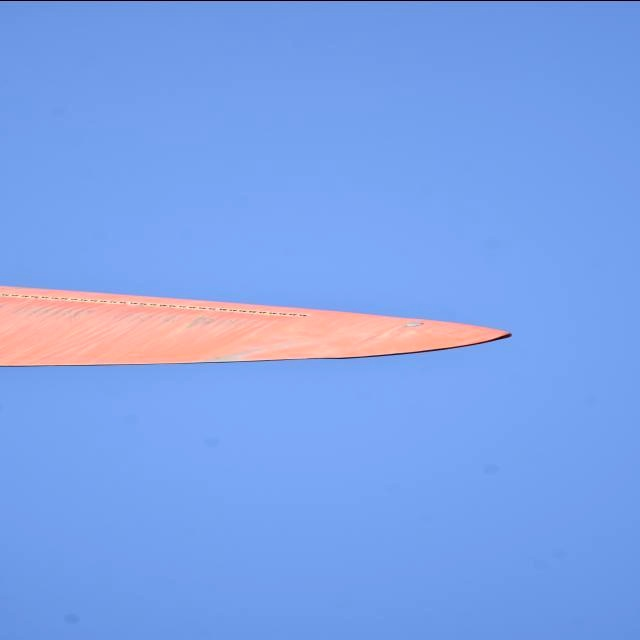Coating_defects: (404, 318, 428, 331)
